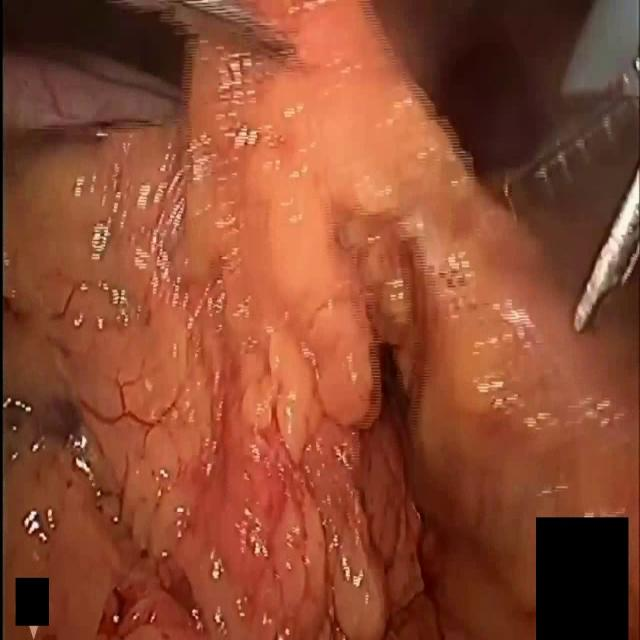surgical-tool: (577, 165, 640, 332)
